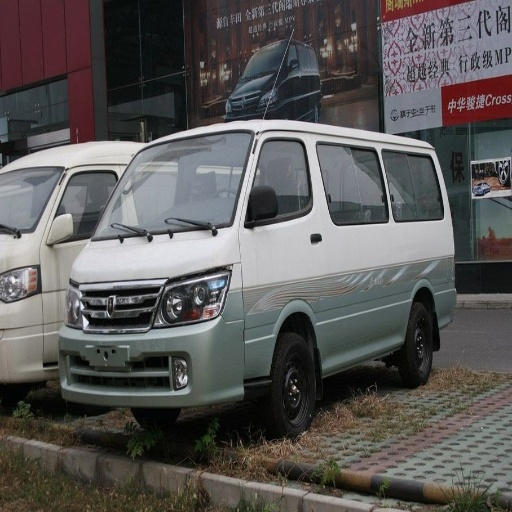front_bumper: (2, 279, 278, 404)
front_glass: (68, 136, 249, 238)
front_left_door: (245, 135, 306, 248)
trunk: (344, 225, 451, 341)
